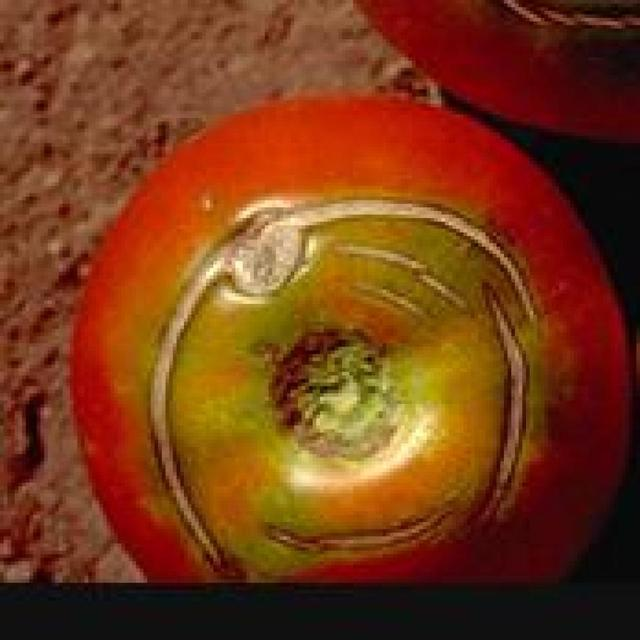Cracking Fruit: (44, 56, 333, 343)
